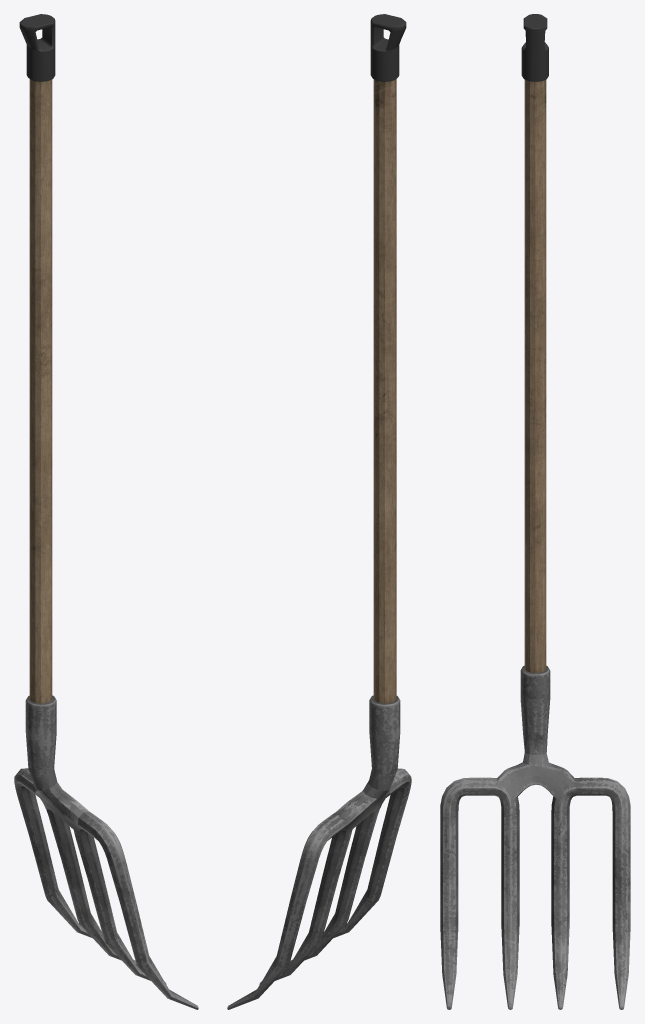
File: Pitchfork_LP.glb
3 views of the same model, side by side, from view 1: azimuth 30°, elevation 25°; view 2: azimuth 150°, elevation 25°; view 3: azimuth 270°, elevation 25° (orthographic). The views are drawn at different scales.
Visible parts, largest first — view 1: Pitchfork_LP; view 2: Pitchfork_LP; view 3: Pitchfork_LP.
Part boxes in pixels (x1,y1,x2,y2): Pitchfork_LP: (14,14,198,1009); Pitchfork_LP: (227,14,411,1009); Pitchfork_LP: (440,14,630,1009).
Size of the model in its own units: 0.2654 by 1.9 by 0.3505.
Materials: 1 (1 with a texture image).
